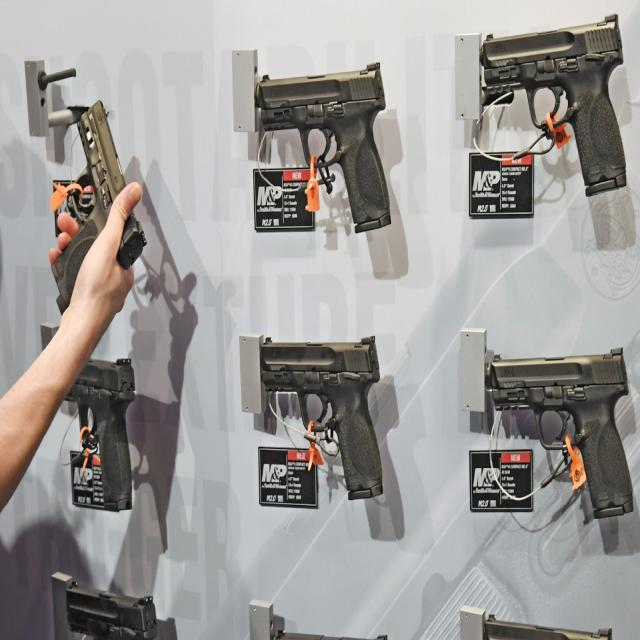HandGun: (479, 15, 628, 198), (487, 353, 634, 521), (256, 64, 392, 234), (259, 339, 382, 502), (51, 101, 124, 308), (66, 361, 133, 513), (63, 589, 157, 640)
